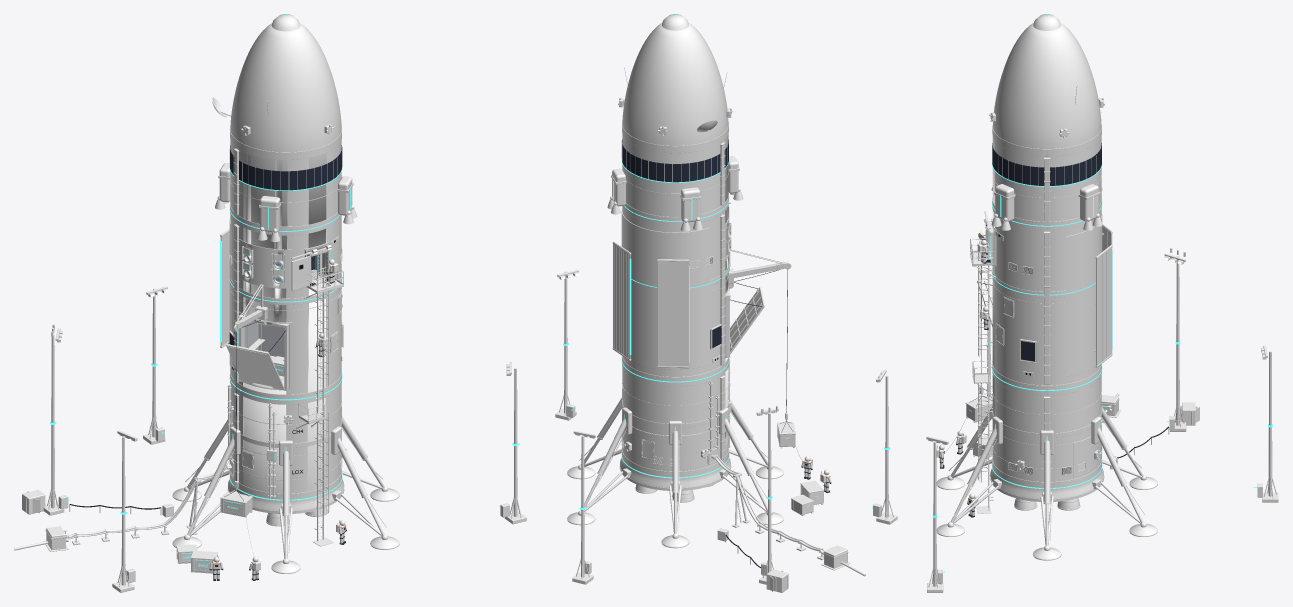
File: starter_ship_master.glb
The picture shows the model from 3 angles, left to right: view 1: azimuth 30°, elevation 25°; view 2: azimuth 150°, elevation 25°; view 3: azimuth 270°, elevation 25°; orthographic projection. The views are drawn at different scales.
Visible parts, largest first — view 1: Hull, Nose, SolarBand, CrewBandPanel, CargoDoorPanel, SteelBand.002, AftSkirt, SteelBand.005, RadiatorWing.001, SteelBand.004, CargoBack, PowerMast_Pole (+3 smaller); view 2: Hull, Nose, RadiatorTiles, RadiatorWing.001, AftTilesBack, SolarBand, RadiatorWing, AftSkirt, SteelBand.002, SteelBand.005, SteelBand.004, Raceway.004 (+8 smaller); view 3: Hull, Nose, RadiatorTiles, SolarBand, RadiatorWing, AftSkirt, SteelBand.002, SteelBand.005, Raceway.001, AftTilesBack, SteelBand.004, SteelBand (+7 smaller).
Boxes of the visible parts, x1,y1,x2,y2 form: Hull: [230, 137, 341, 493]; Nose: [230, 23, 341, 152]; SolarBand: [230, 145, 342, 190]; CrewBandPanel: [239, 239, 292, 288]; CargoDoorPanel: [226, 344, 284, 388]; SteelBand.002: [230, 369, 341, 404]; AftSkirt: [228, 475, 344, 513]; SteelBand.005: [230, 126, 341, 159]; RadiatorWing.001: [220, 229, 229, 348]; SteelBand.004: [230, 201, 341, 235]; CargoBack: [258, 324, 284, 357]; PowerMast_Pole: [51, 334, 54, 508]; Hull: [622, 128, 728, 471]; Nose: [622, 22, 728, 145]; RadiatorTiles: [621, 207, 709, 369]; RadiatorWing.001: [657, 259, 689, 368]; AftTilesBack: [622, 427, 703, 469]; SolarBand: [622, 139, 728, 182]; RadiatorWing: [613, 241, 630, 360]; AftSkirt: [620, 454, 730, 490]; SteelBand.002: [622, 356, 728, 386]; SteelBand.005: [622, 121, 728, 153]; SteelBand.004: [622, 193, 728, 225]; Raceway.004: [720, 214, 724, 365]; Hull: [992, 136, 1101, 481]; Nose: [993, 23, 1101, 148]; RadiatorTiles: [1066, 212, 1102, 376]; SolarBand: [992, 143, 1101, 185]; RadiatorWing: [1096, 245, 1112, 367]; AftSkirt: [990, 465, 1103, 501]; SteelBand.002: [992, 361, 1101, 395]; SteelBand.005: [992, 123, 1101, 156]; Raceway.001: [1044, 231, 1049, 384]; AftTilesBack: [1073, 421, 1101, 477]; SteelBand.004: [992, 198, 1101, 230]; SteelBand: [992, 458, 1101, 488].
Bounding box in the file's own units: 34.43 × 40.07 × 25.93.
